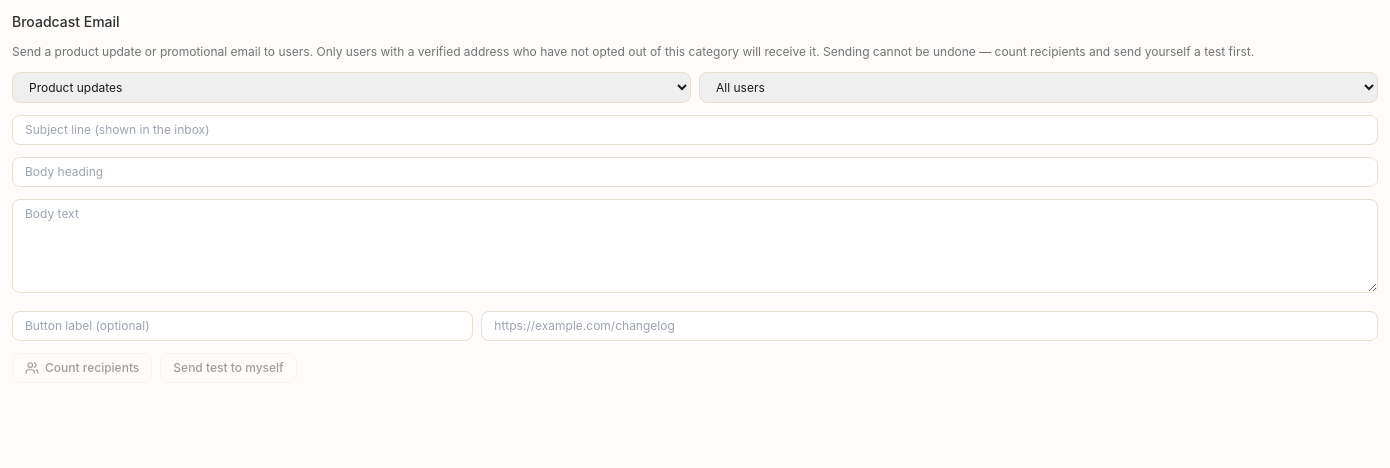
EmailBroadcastSection › 统计人数走 preview 模式，并显示人数
In the field with placeholder "Subject line (shown in the inbox)": (695, 130) [12,115,1378,145], type "Subject"
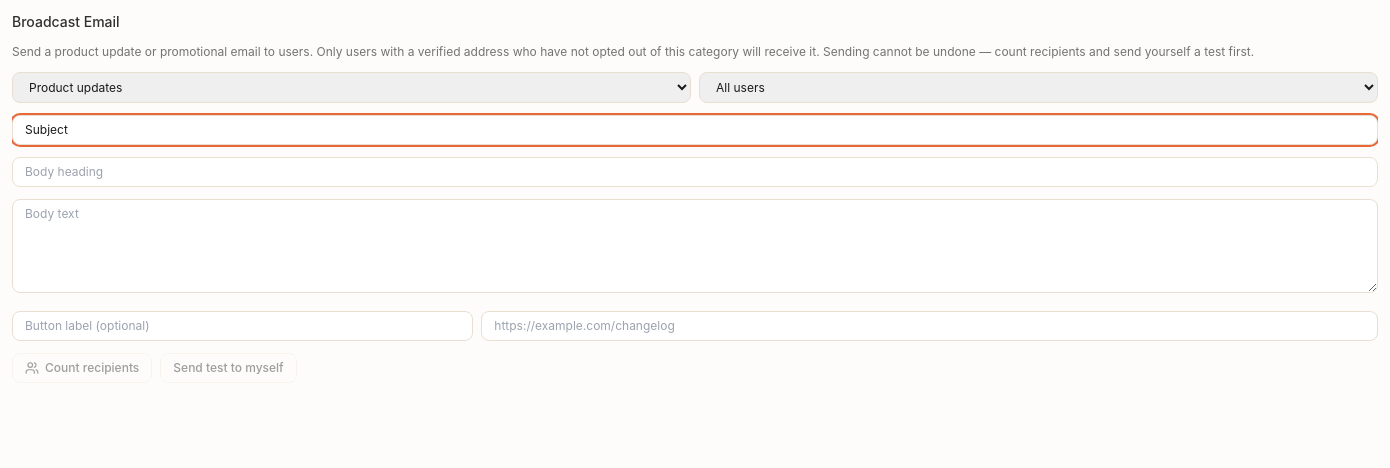
In the field with placeholder "Body heading": (695, 172) [12,157,1378,187], type "Heading"
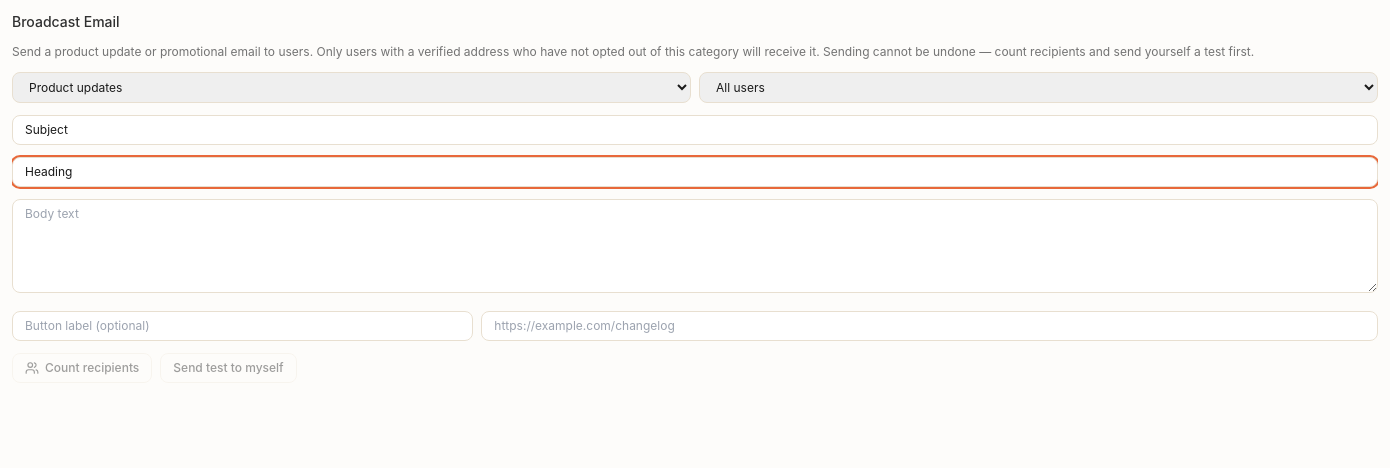
In the text box with placeholder "Body text": (695, 246) [12,199,1378,293], type "Body"
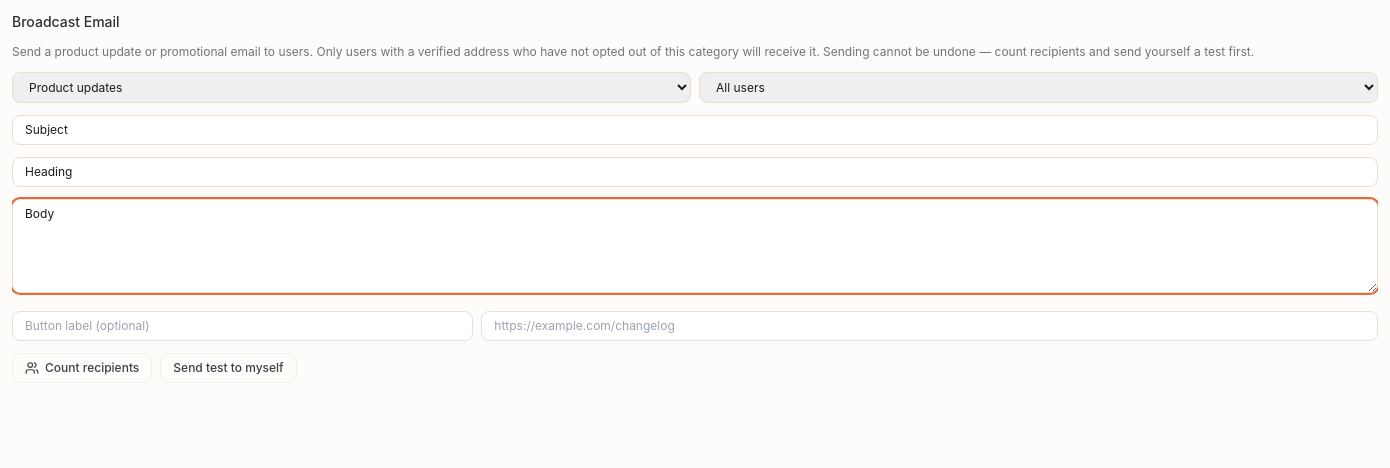
Click the button "Count recipients": (82, 368) [12,353,152,383]
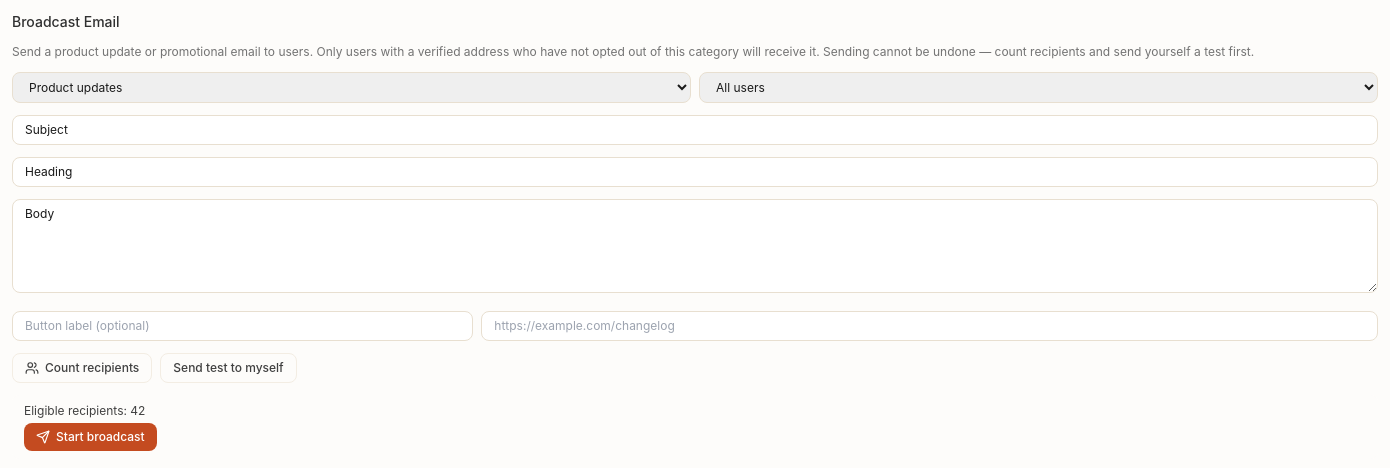
Expected: the text "Eligible recipients: 42" is shown, [24,403,145,418]
